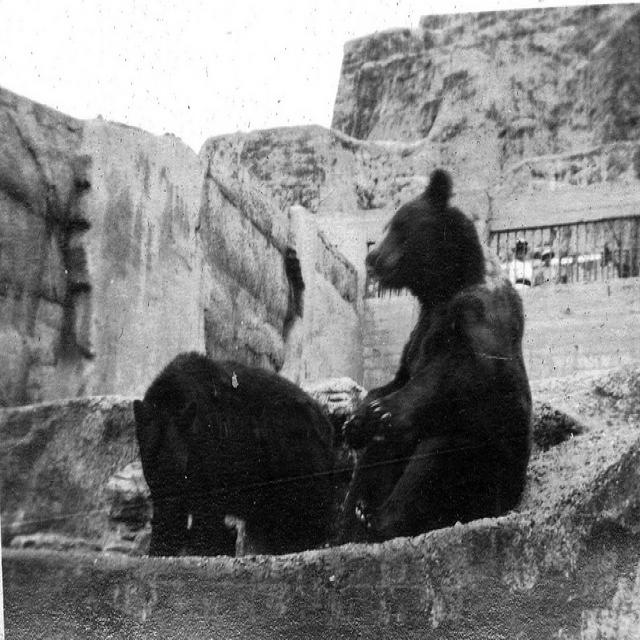Bear: (347, 164, 536, 532), (124, 340, 358, 553)
